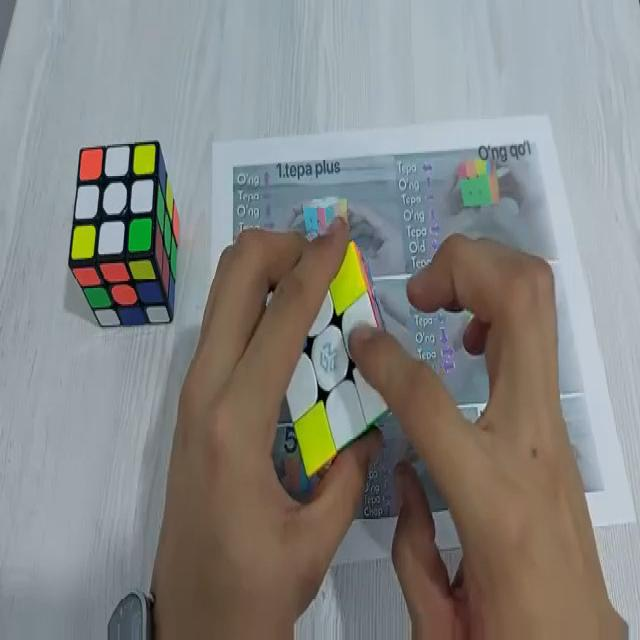Rub: (262, 231, 399, 479), (69, 137, 179, 330)
